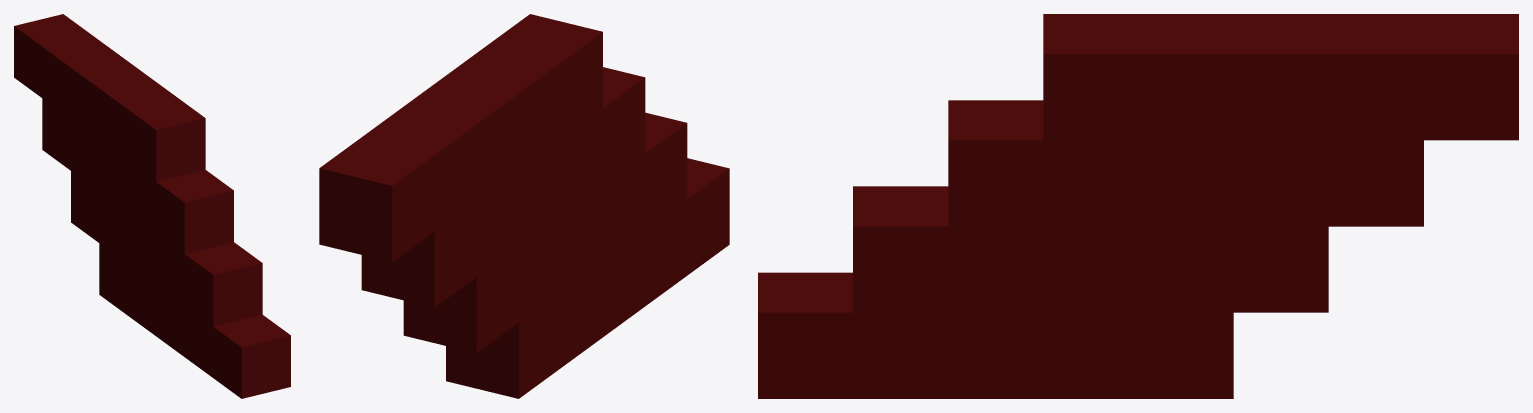
The model's file is Extra-22-RedFighter_ThrusterWing_Top_L.obj.
3 renders of one model, left to right at view 1: azimuth 30°, elevation 25°; view 2: azimuth 150°, elevation 25°; view 3: azimuth 270°, elevation 25°, orthographic. The views are drawn at different scales.
Visible parts, largest first — view 1: RedFighter_ThrusterWing_Top_L; view 2: RedFighter_ThrusterWing_Top_L; view 3: RedFighter_ThrusterWing_Top_L.
Boxes of the visible parts, x1=… form: RedFighter_ThrusterWing_Top_L: x1=14, y1=14, x2=290, y2=398; RedFighter_ThrusterWing_Top_L: x1=319, y1=14, x2=729, y2=398; RedFighter_ThrusterWing_Top_L: x1=758, y1=14, x2=1518, y2=398.
Size of the model in its own units: 0.1 by 0.4 by 0.8.
1 material, 1 textured.
